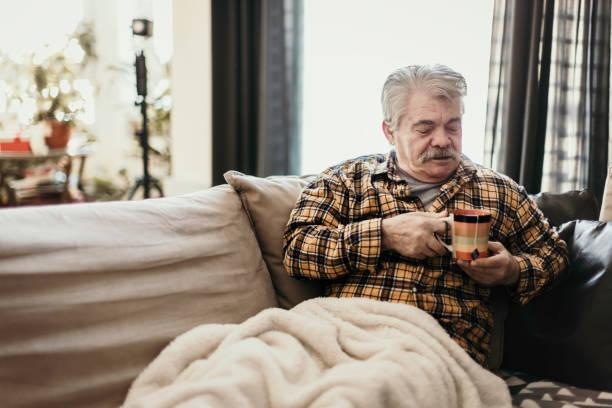dress: (118, 294, 515, 408)
long sleeve shirt: (281, 149, 570, 372)
